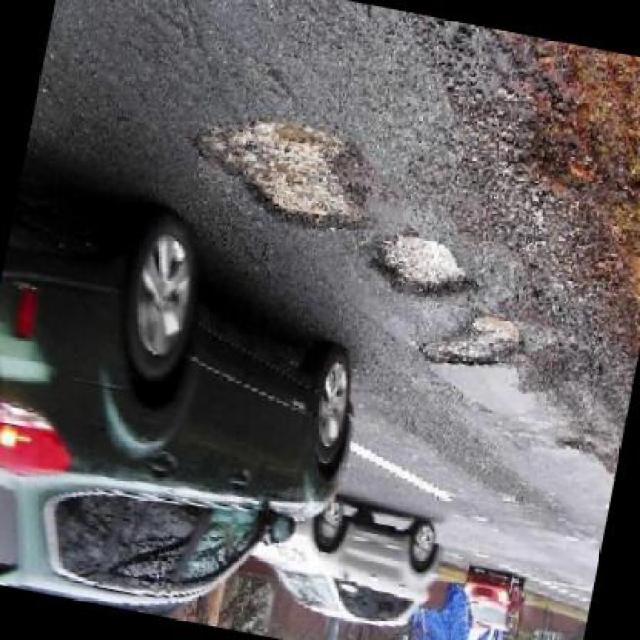pothole: (179, 97, 392, 248), (359, 222, 484, 312), (416, 300, 532, 385)
